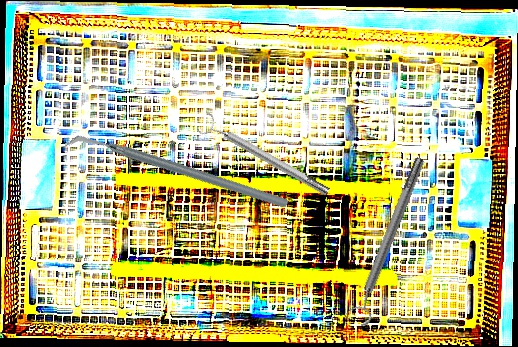Chopper: (61, 63, 291, 282)
Fixation Ring: (342, 153, 435, 329), (196, 110, 334, 204)
